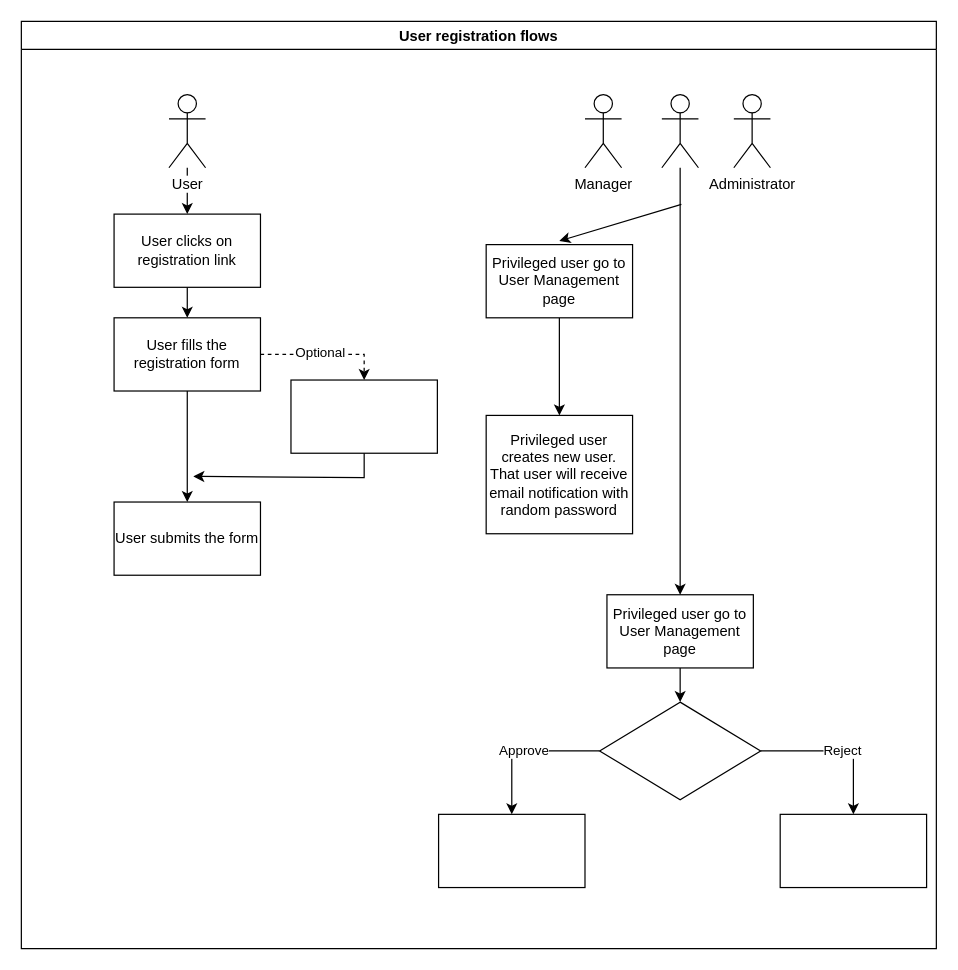
Image size: 958x970. Some labels were removed from this diagram. The centre of each missing label's shape, as x and y in pixels:
Chief: the point at 679,130
Review user registration request: the point at 679,750
User attaches a document that proofs ownership: the point at 363,416
User will received email notification about successful registration: the point at 511,850
User will received email notification with comment send by reviewer: the point at 853,850
